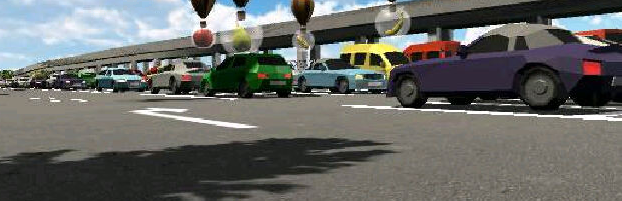ground_right: (127, 106, 194, 117)
